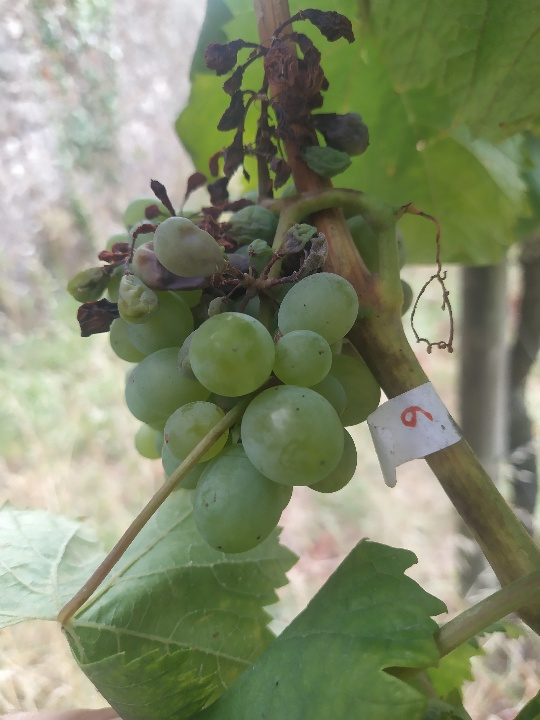grape: (65, 3, 373, 560)
